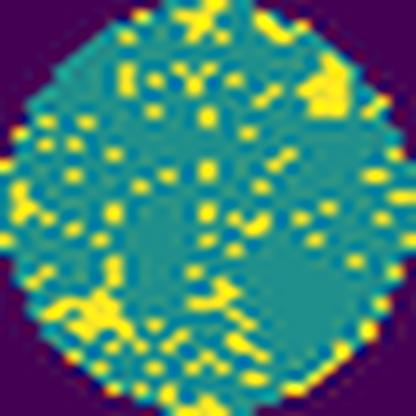Loc: (46, 286, 139, 339), (297, 56, 354, 117)
